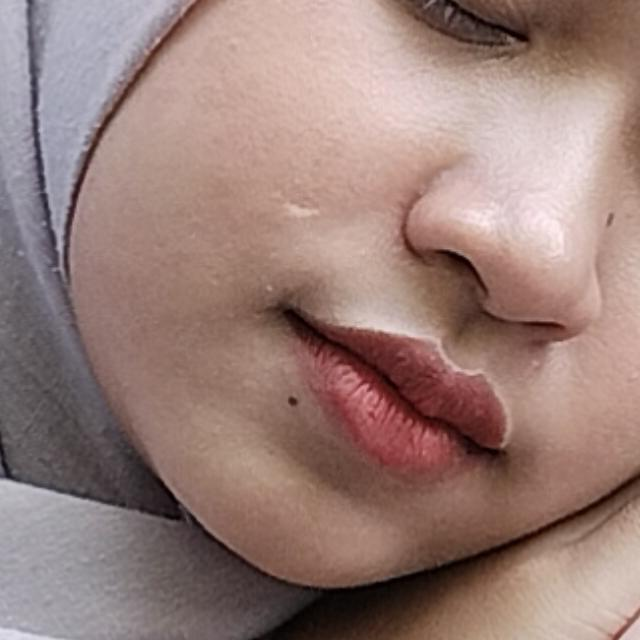tidur: (0, 168, 640, 640)
